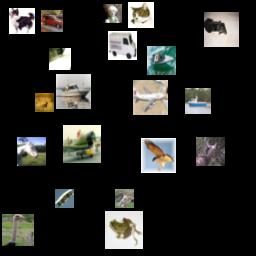airplane: (63, 125, 101, 163), (133, 80, 168, 115), (55, 189, 74, 208)
automobile: (41, 10, 63, 32)
bird: (141, 138, 176, 173), (2, 214, 34, 246)
cat: (204, 12, 239, 47), (128, 2, 154, 28), (49, 48, 71, 70)
deer: (196, 137, 225, 166), (35, 93, 54, 112), (115, 189, 134, 208)
dog: (9, 8, 35, 34), (103, 4, 122, 23)
frog: (105, 211, 143, 249)
ship: (56, 74, 91, 109), (147, 46, 176, 75), (185, 88, 211, 114)
truck: (108, 31, 137, 60)
